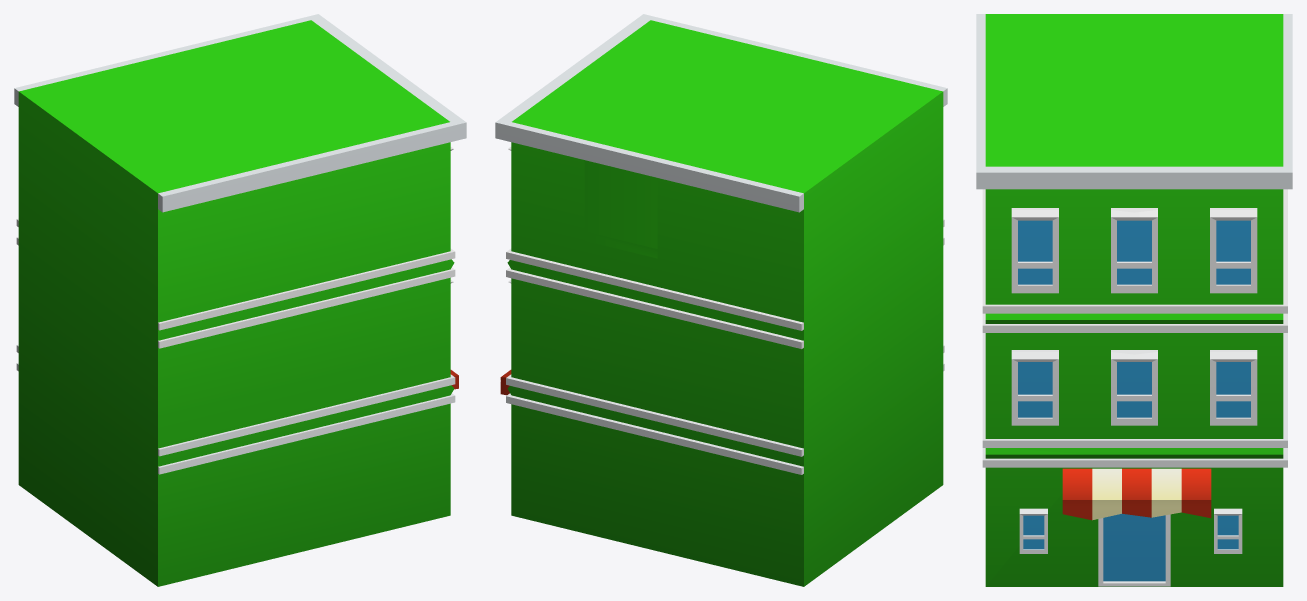
The model's file is PLAYER_GREEN_building.glb.
The picture shows the model from 3 angles, left to right: view 1: azimuth 30°, elevation 25°; view 2: azimuth 150°, elevation 25°; view 3: azimuth 270°, elevation 25°; orthographic projection. The views are drawn at different scales.
Visible parts, largest first — view 1: Cube.002; view 2: Cube.002; view 3: Cube.002, Cube.003.
Part boxes in pixels (x1,y1,x2,y2): Cube.002: [14, 14, 466, 586]; Cube.002: [495, 14, 947, 586]; Cube.002: [976, 14, 1292, 586]; Cube.003: [1062, 468, 1211, 520].
Bounding box in the file's own units: 0.5588 × 0.6238 × 0.4257.
Materials: 2 (2 with a texture image).
